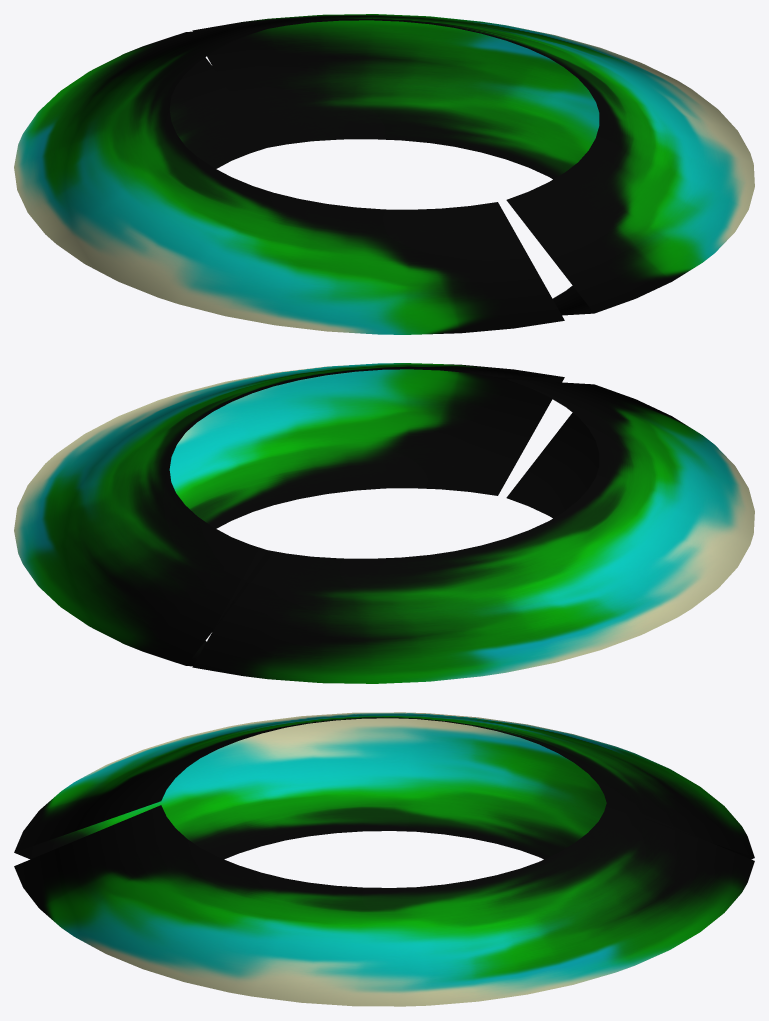
Rendered from SM_Transverse_Sword.FBX.
The picture shows the model from 3 angles, top to bottom: view 1: azimuth 30°, elevation 25°; view 2: azimuth 150°, elevation 25°; view 3: azimuth 270°, elevation 25°; orthographic projection. The views are drawn at different scales.
Visible parts, largest first — view 1: Plane001; view 2: Plane001; view 3: Plane001.
Part boxes in pixels (<box>): Plane001: <box>14,14,754,334</box>; Plane001: <box>14,363,754,683</box>; Plane001: <box>14,712,754,1006</box>.
Size of the model in its own units: 295 by 52.79 by 314.
